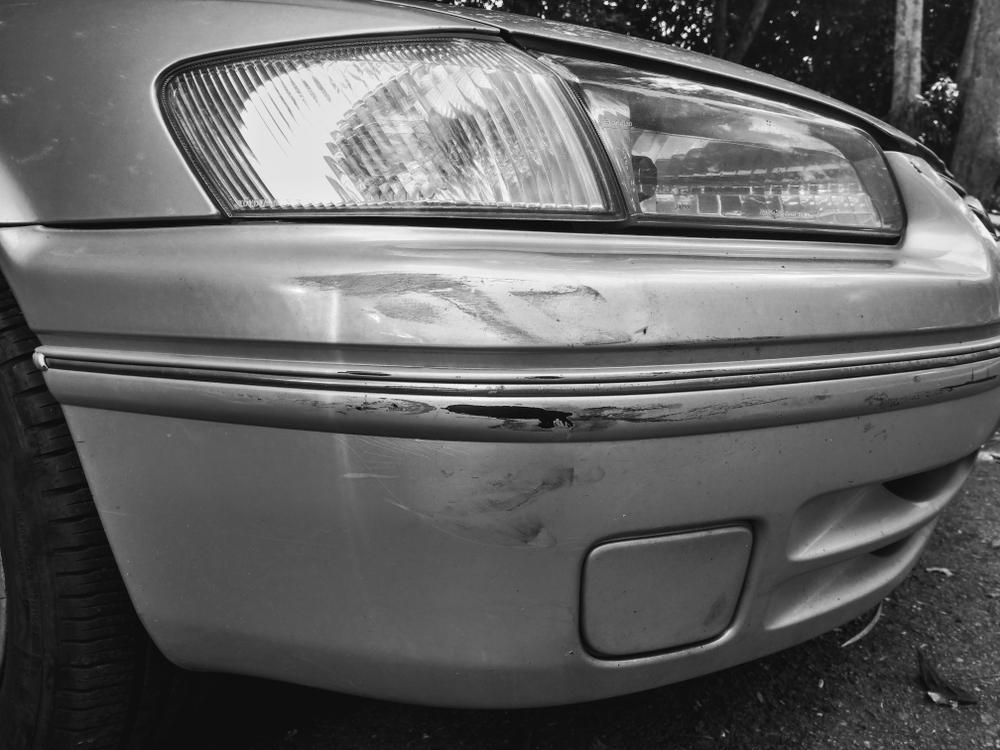scratch: (323, 366, 787, 555), (295, 263, 663, 346)
